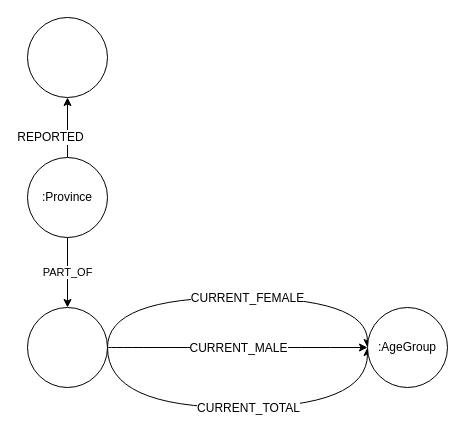
Image size: 465x432. Some labels were removed from this diagram. Here are the shapes that lost their labels. From the top down, the centre of each, then its label:
the point at 67,57: :Update :Latest
the point at 67,347: :Country
